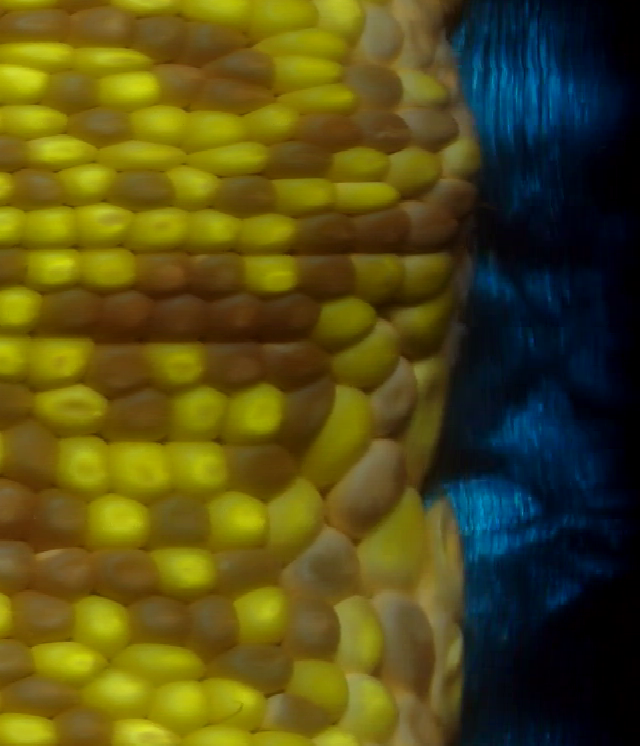fluorescent: (365, 496, 430, 596), (312, 385, 376, 486), (334, 318, 406, 391), (337, 667, 401, 746), (264, 482, 323, 566), (62, 590, 132, 655), (285, 655, 350, 725), (27, 383, 111, 437), (329, 593, 387, 671), (145, 544, 220, 602), (106, 439, 175, 499), (202, 492, 272, 551), (250, 25, 351, 65), (56, 434, 117, 497), (149, 675, 214, 733), (86, 492, 149, 551), (143, 335, 206, 393), (166, 439, 228, 497), (30, 635, 104, 683), (169, 385, 229, 444), (227, 387, 290, 443), (397, 296, 454, 357), (113, 644, 206, 681), (207, 674, 266, 732), (29, 333, 93, 385), (230, 585, 286, 644), (74, 243, 140, 293), (346, 249, 399, 311), (385, 146, 446, 199), (85, 671, 150, 719), (92, 139, 185, 172), (71, 201, 135, 248), (24, 243, 88, 290), (129, 208, 195, 253), (238, 251, 302, 297), (191, 143, 274, 177), (318, 297, 378, 344), (398, 249, 453, 299), (19, 203, 75, 250), (235, 214, 296, 257), (129, 104, 187, 149), (187, 208, 243, 254), (260, 56, 345, 86), (3, 104, 75, 139), (99, 70, 165, 108), (59, 161, 113, 207), (70, 43, 155, 72), (186, 109, 246, 150), (272, 177, 332, 218), (0, 39, 75, 71), (250, 1, 322, 34), (276, 82, 360, 109), (30, 134, 98, 167), (0, 283, 43, 335), (0, 62, 49, 107), (170, 167, 219, 212), (0, 708, 57, 746), (329, 146, 390, 181), (402, 64, 448, 109), (332, 181, 401, 211), (248, 107, 303, 144), (316, 1, 365, 40), (0, 333, 33, 386), (439, 139, 483, 178)
nonfluorescent: (323, 439, 403, 541), (371, 592, 443, 693), (283, 524, 361, 604), (208, 639, 297, 692), (277, 377, 338, 453), (0, 416, 59, 491), (95, 540, 161, 606), (225, 437, 293, 498), (25, 546, 99, 602), (367, 360, 418, 441), (29, 481, 88, 550), (98, 386, 172, 440), (281, 598, 345, 660), (255, 341, 332, 391), (185, 590, 240, 660), (37, 282, 103, 340), (87, 341, 154, 398), (7, 590, 76, 644), (3, 672, 80, 720), (287, 206, 359, 255), (181, 16, 251, 66), (150, 492, 212, 548), (214, 548, 286, 596), (251, 291, 316, 344), (403, 196, 459, 257), (130, 592, 191, 648), (151, 286, 206, 348), (192, 74, 280, 112), (96, 288, 155, 344), (299, 248, 359, 303), (349, 204, 414, 254), (186, 248, 249, 299), (259, 690, 330, 734), (113, 166, 180, 212), (206, 339, 266, 390), (66, 6, 137, 49), (267, 137, 334, 182), (345, 62, 404, 112), (209, 176, 276, 220), (353, 106, 413, 155), (65, 102, 130, 146), (206, 291, 258, 346), (299, 107, 359, 154), (134, 249, 192, 297), (402, 103, 461, 150), (133, 11, 187, 62), (45, 66, 102, 114), (0, 6, 71, 44), (7, 167, 64, 214), (359, 4, 403, 64), (55, 704, 115, 746), (214, 49, 276, 88), (0, 474, 37, 538), (156, 59, 204, 106), (0, 535, 32, 598), (0, 635, 38, 686), (0, 372, 33, 424), (0, 238, 30, 291), (0, 132, 32, 172)
